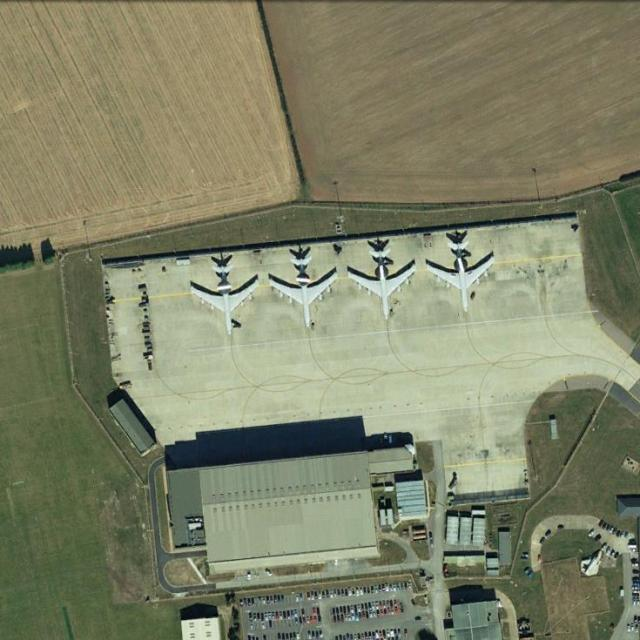fighter jet: (189, 264, 259, 335), (268, 259, 338, 330), (424, 243, 495, 312), (348, 252, 416, 322)
